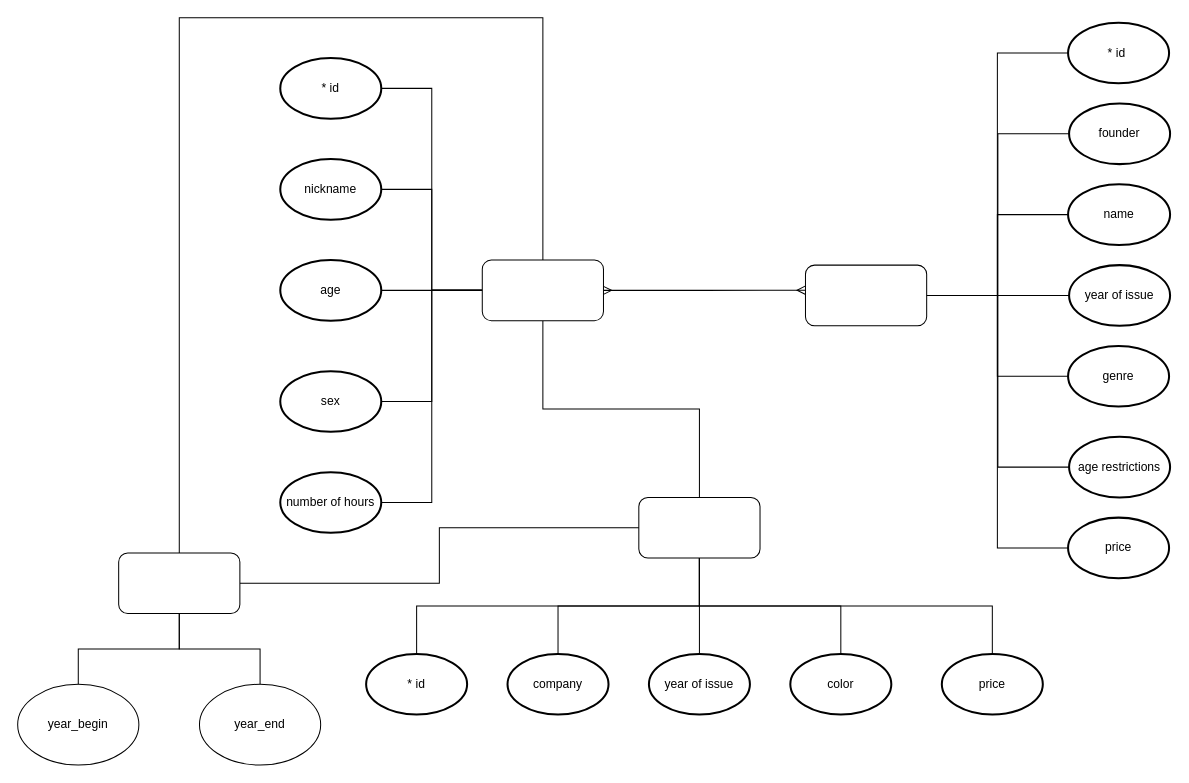
Image size: 1189x783. Some labels were removed from this diagram. The centre of each missing label's shape, as x and y in pixels:
"device" goes at [699,527].
"device_history" goes at [179,583].
"user" goes at [542,290].
"World" goes at [865,295].
